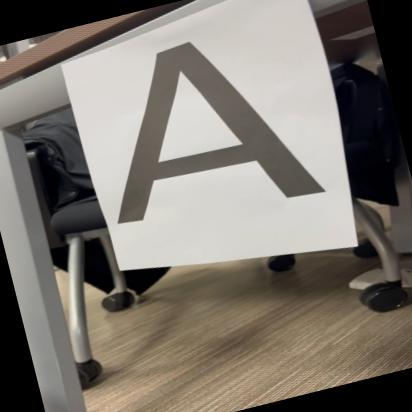seat: (78, 11, 338, 245)
